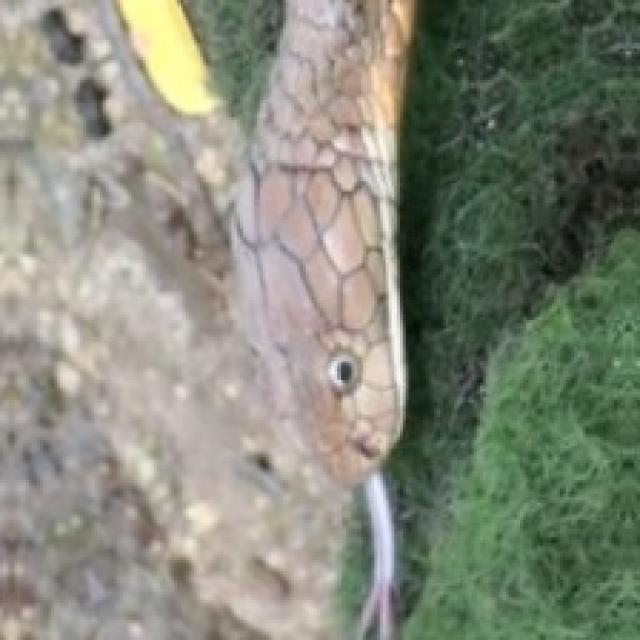king cobra: (230, 0, 415, 639)
